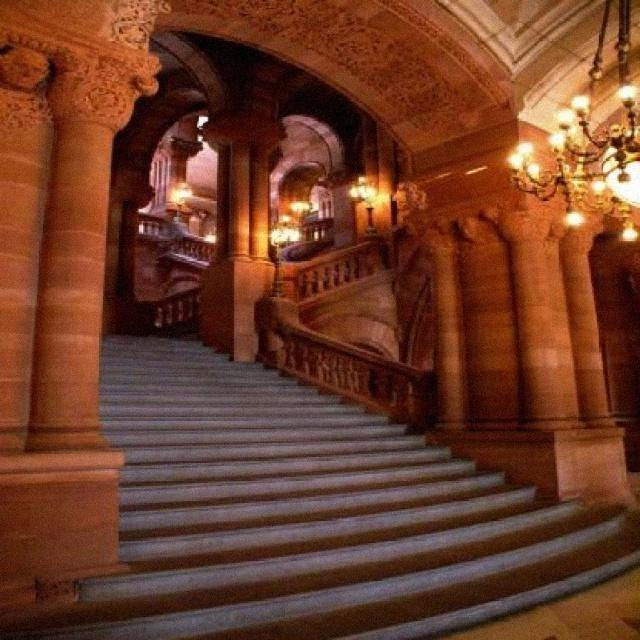stair: (3, 326, 640, 640)
